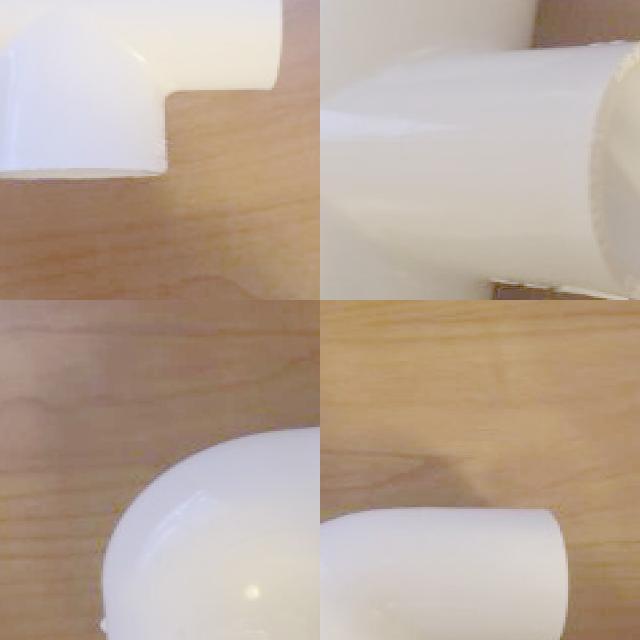L Joint: (100, 429, 320, 640), (320, 507, 571, 640)
T Joint: (320, 0, 640, 300)
